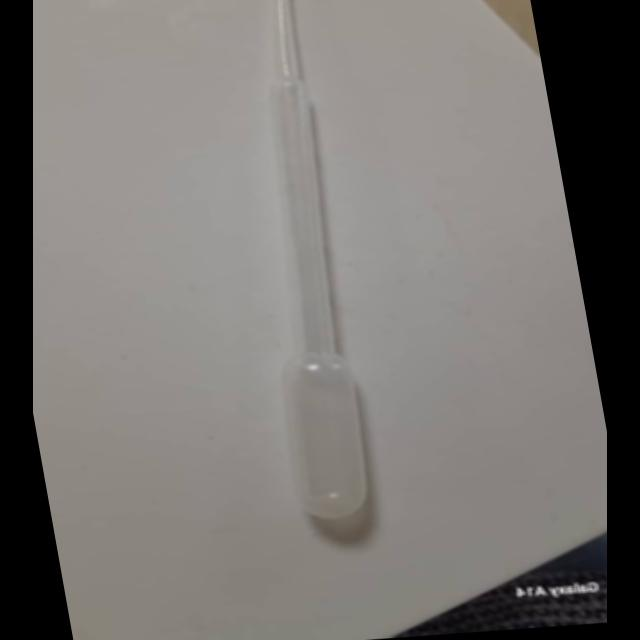Droppers: (183, 0, 414, 528)
